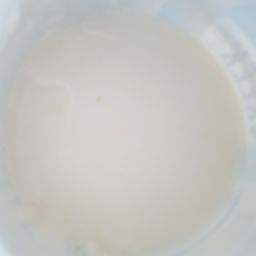Yogurt: (13, 31, 243, 248), (46, 64, 226, 210)
